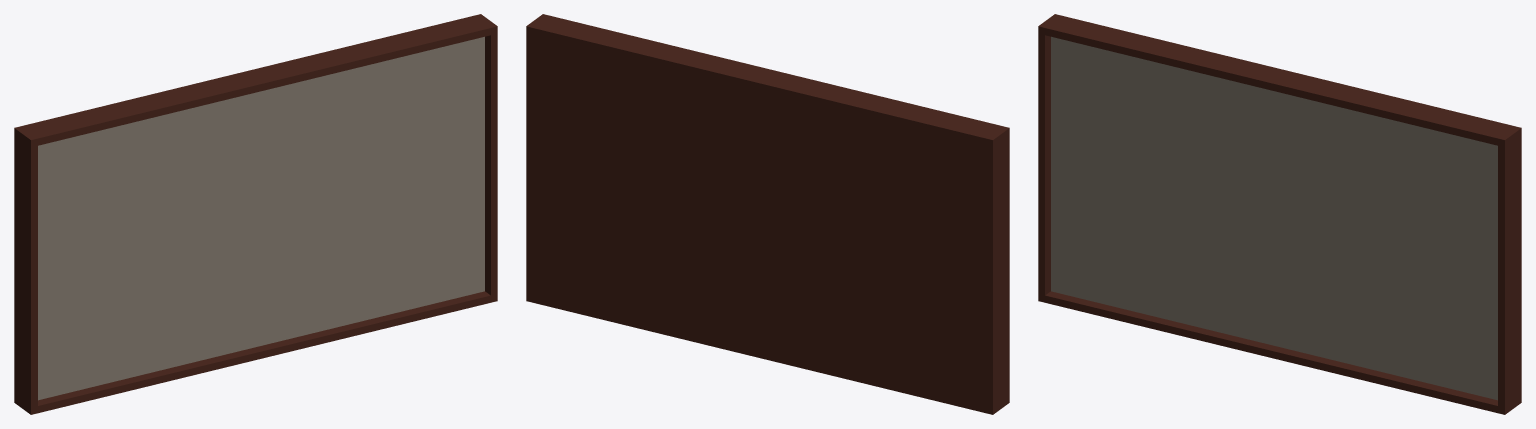
File: screen.fbx
3 renders of one model, left to right at view 1: azimuth 30°, elevation 25°; view 2: azimuth 150°, elevation 25°; view 3: azimuth 330°, elevation 25°, orthographic.
Visible parts, largest first — view 1: Cube.015; view 2: Cube.015; view 3: Cube.015.
Boxes of the visible parts, bbox=[...] form: Cube.015: bbox=[14, 14, 497, 414]; Cube.015: bbox=[526, 14, 1009, 414]; Cube.015: bbox=[1038, 14, 1521, 414].
Bounding box in the file's own units: 2192 × 1233 × 137.
